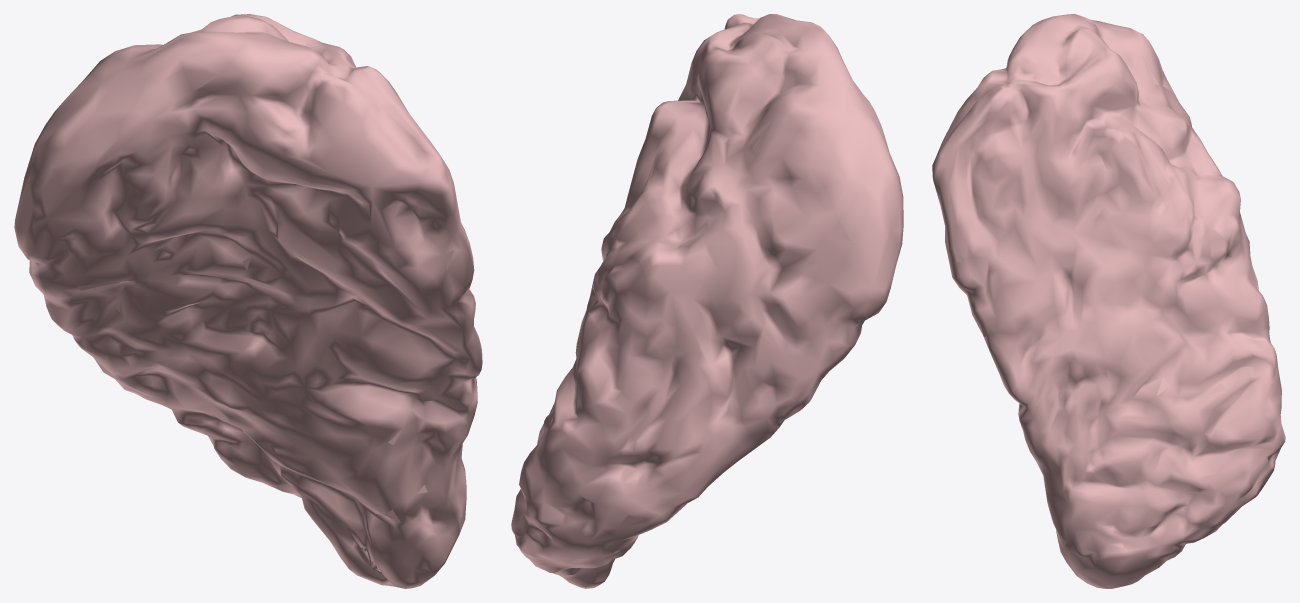
File: 3d-vh-f-palatine-tonsil-l-40.glb
The picture shows the model from 3 angles, left to right: view 1: azimuth 30°, elevation 25°; view 2: azimuth 150°, elevation 25°; view 3: azimuth 270°, elevation 25°; orthographic projection. The views are drawn at different scales.
Visible parts, largest first — view 1: VH_F_palatine_tonsil_L; view 2: VH_F_palatine_tonsil_L; view 3: VH_F_palatine_tonsil_L.
Part boxes in pixels (x1=…): VH_F_palatine_tonsil_L: x1=14, y1=14, x2=482, y2=588; VH_F_palatine_tonsil_L: x1=511, y1=14, x2=903, y2=588; VH_F_palatine_tonsil_L: x1=932, y1=14, x2=1285, y2=588.
Bounding box in the file's own units: 0.0163 × 0.0243 × 0.0159.
